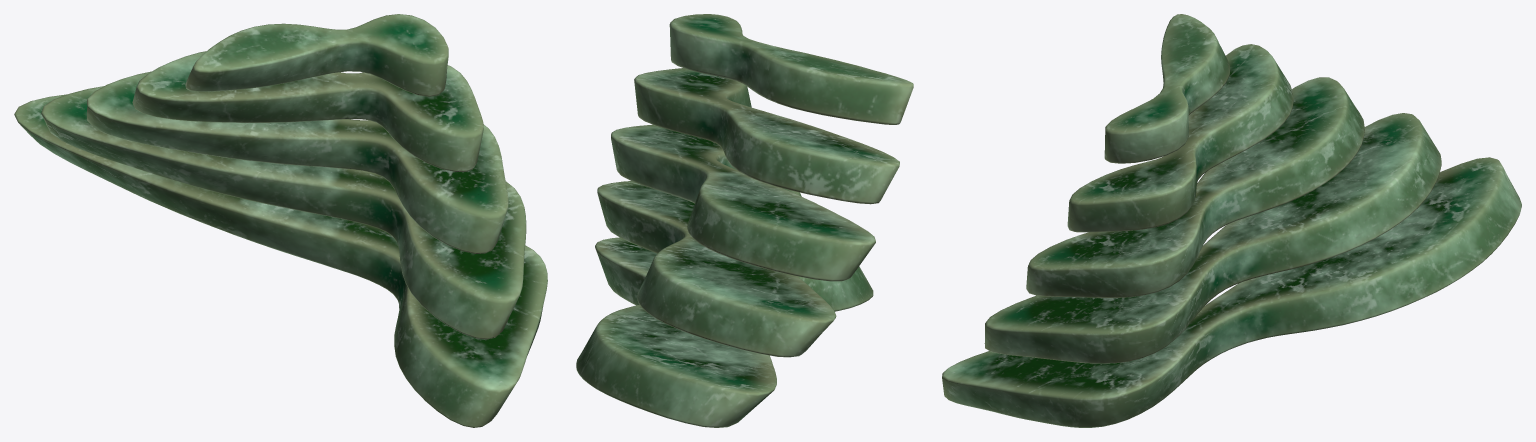
The model's file is Abstract_decor.glb.
The picture shows the model from 3 angles, left to right: view 1: azimuth 30°, elevation 25°; view 2: azimuth 150°, elevation 25°; view 3: azimuth 270°, elevation 25°; orthographic projection. The views are drawn at different scales.
Parts seen in each view (by area): view 1: Material1; view 2: Material1; view 3: Material1.
Boxes of the visible parts, bbox=[...] form: Material1: bbox=[14, 14, 547, 427]; Material1: bbox=[576, 14, 913, 427]; Material1: bbox=[942, 14, 1521, 427].
Size of the model in its own units: 293 by 255 by 431.
Materials: 1 (1 with a texture image).
